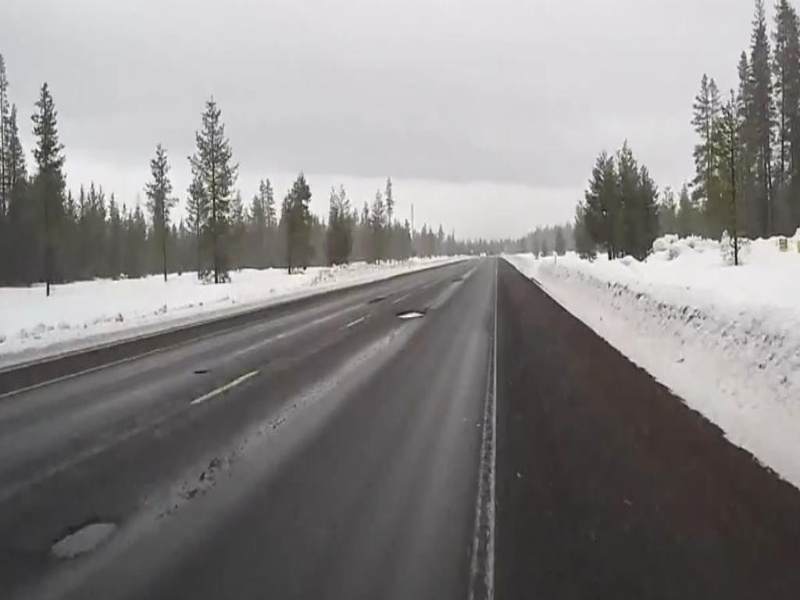pothole: (47, 514, 121, 562), (393, 307, 424, 323)
